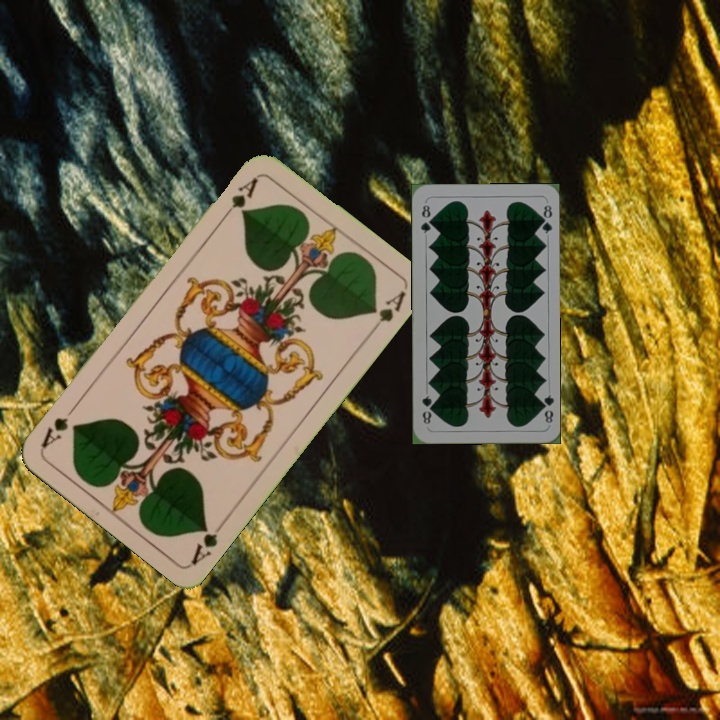G8: (536, 391, 556, 425), (416, 201, 434, 236)
GA: (187, 515, 229, 567), (219, 172, 261, 222)
